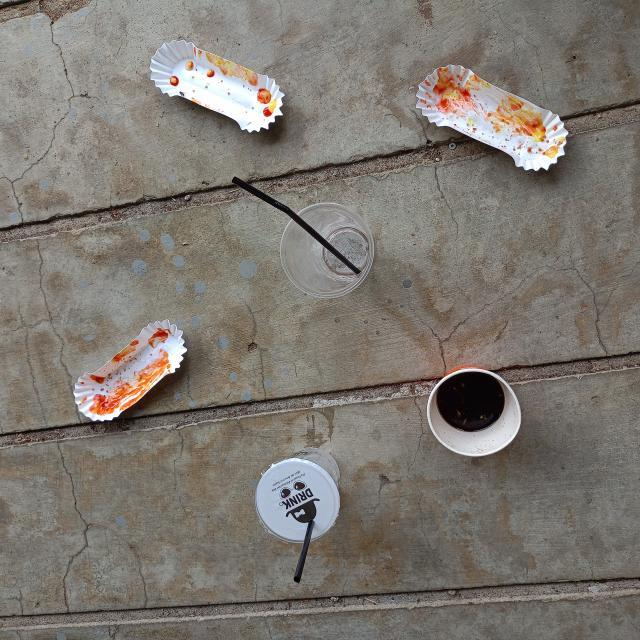recyclable waste: (409, 58, 575, 181), (146, 31, 292, 140), (69, 312, 195, 430), (269, 195, 383, 308), (421, 359, 532, 464), (247, 439, 350, 551)
